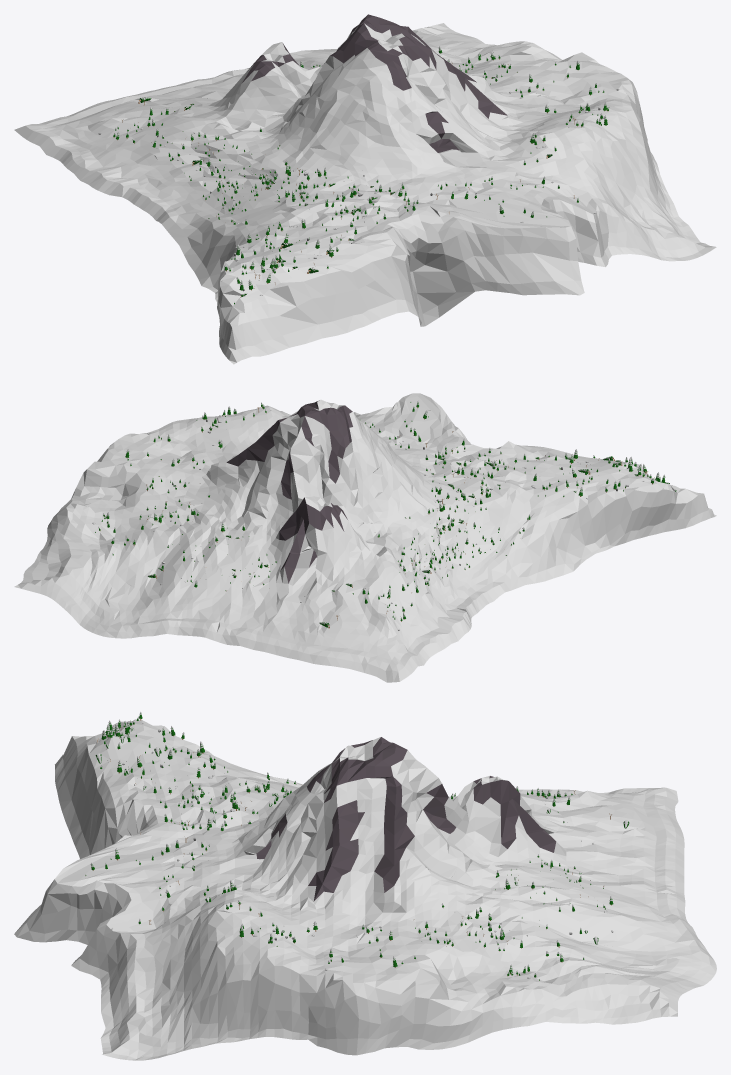
The model's file is snowland3.fbx.
The picture shows the model from 3 angles, top to bottom: view 1: azimuth 30°, elevation 25°; view 2: azimuth 150°, elevation 25°; view 3: azimuth 270°, elevation 25°; orthographic projection. The views are drawn at different scales.
Visible parts, largest first — view 1: 平面; view 2: 平面; view 3: 平面.
Part boxes in pixels (left/top/right/bottom): 平面: left=14, top=14, right=716, bottom=364; 平面: left=14, top=393, right=716, bottom=682; 平面: left=14, top=719, right=716, bottom=1060.
Bounding box in the file's own units: 1298 × 459 × 1329.
